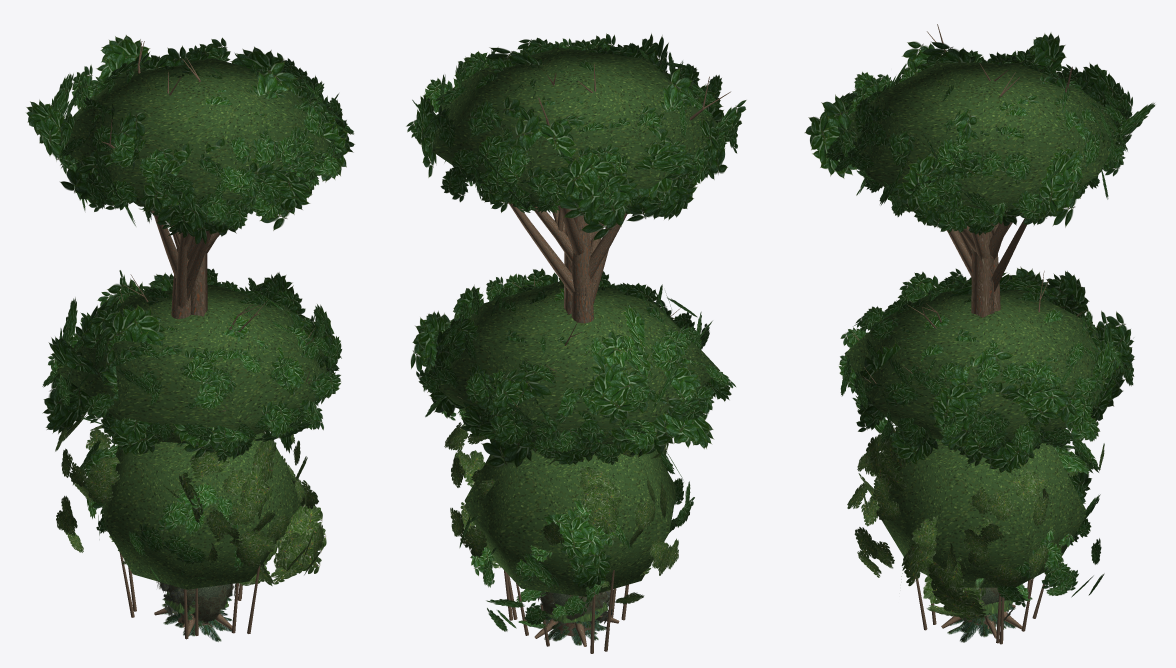
The model's file is trees.glb.
The picture shows the model from 3 angles, left to right: view 1: azimuth 30°, elevation 25°; view 2: azimuth 150°, elevation 25°; view 3: azimuth 270°, elevation 25°; orthographic projection. The views are drawn at different scales.
Parts seen in each view (by area): view 1: emergent_0, emergent_2, canopy_2, canopy_0, emergent_1, canopy_1, pinyon_1, pinyon_0, spruce_0; view 2: emergent_2, emergent_0, canopy_0, canopy_2, emergent_1, canopy_1, spruce_0, pinyon_1; view 3: emergent_2, emergent_0, canopy_0, canopy_2, canopy_1, emergent_1, spruce_0.
Part boxes in pixels (x1=…): emergent_0: x1=50, y1=37, x2=353, y2=639; emergent_2: x1=61, y1=58, x2=334, y2=545; canopy_2: x1=56, y1=285, x2=326, y2=589; canopy_0: x1=42, y1=268, x2=341, y2=635; emergent_1: x1=26, y1=35, x2=354, y2=585; canopy_1: x1=43, y1=270, x2=340, y2=586; pinyon_1: x1=156, y1=581, x2=234, y2=623; pinyon_0: x1=160, y1=582, x2=236, y2=622; spruce_0: x1=162, y1=594, x2=233, y2=641; emergent_2: x1=432, y1=47, x2=717, y2=549; emergent_0: x1=406, y1=33, x2=737, y2=653; canopy_0: x1=416, y1=268, x2=735, y2=651; canopy_2: x1=437, y1=282, x2=719, y2=596; emergent_1: x1=416, y1=33, x2=746, y2=633; canopy_1: x1=410, y1=285, x2=731, y2=589; spruce_0: x1=542, y1=600, x2=612, y2=645; pinyon_1: x1=538, y1=591, x2=609, y2=615; emergent_2: x1=847, y1=62, x2=1118, y2=546; emergent_0: x1=819, y1=24, x2=1132, y2=643; canopy_0: x1=839, y1=268, x2=1134, y2=644; canopy_2: x1=844, y1=289, x2=1105, y2=587; canopy_1: x1=852, y1=266, x2=1134, y2=616; emergent_1: x1=804, y1=32, x2=1155, y2=622; spruce_0: x1=947, y1=589, x2=1016, y2=637.
Size of the model in its own units: 30.22 by 53.63 by 31.63.
Materials: 6 (5 with a texture image).
